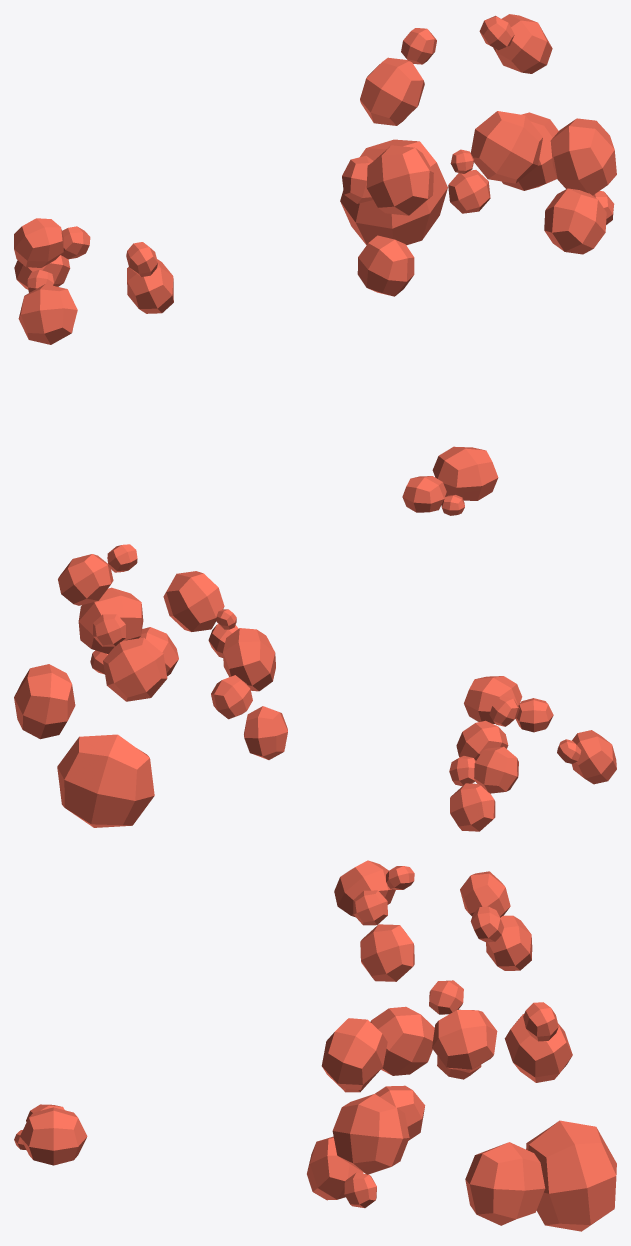
File: crystal_08.glb
The picture shows the model from 3 angles, top to bottom: view 1: azimuth 30°, elevation 25°; view 2: azimuth 150°, elevation 25°; view 3: azimuth 270°, elevation 25°; orthographic projection. The views are drawn at different scales.
Visible parts, largest first — view 1: crystal_08; view 2: crystal_08; view 3: crystal_08.
Boxes of the visible parts, bbox=[...] form: crystal_08: bbox=[14, 14, 616, 515]; crystal_08: bbox=[14, 544, 616, 831]; crystal_08: bbox=[14, 860, 616, 1231].
Bounding box in the file's own units: 2.49 × 1.13 × 2.11.
